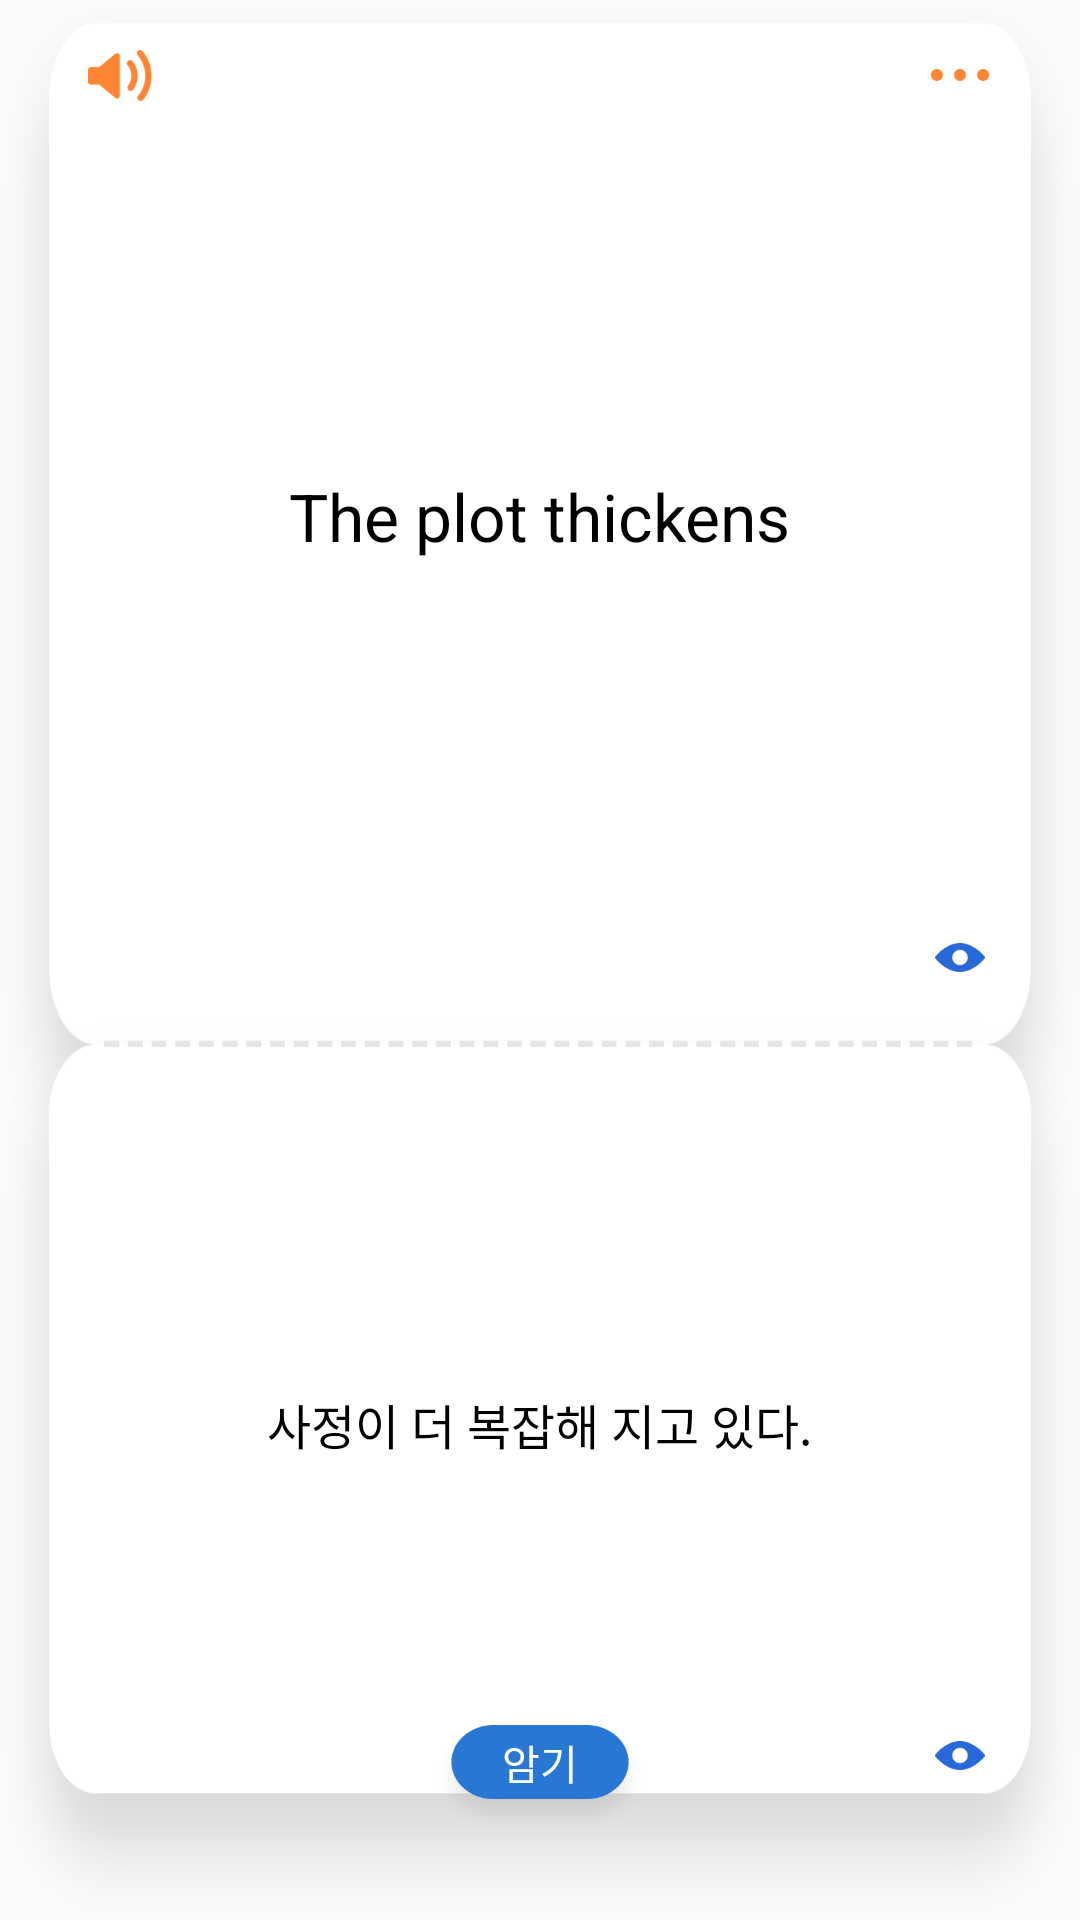

Named icons in this screenshot (1080px×1920px) and their bounding boxes, (x1, y1, x2, y2):
more: (931, 69, 989, 81)
sound: (88, 50, 152, 101)
